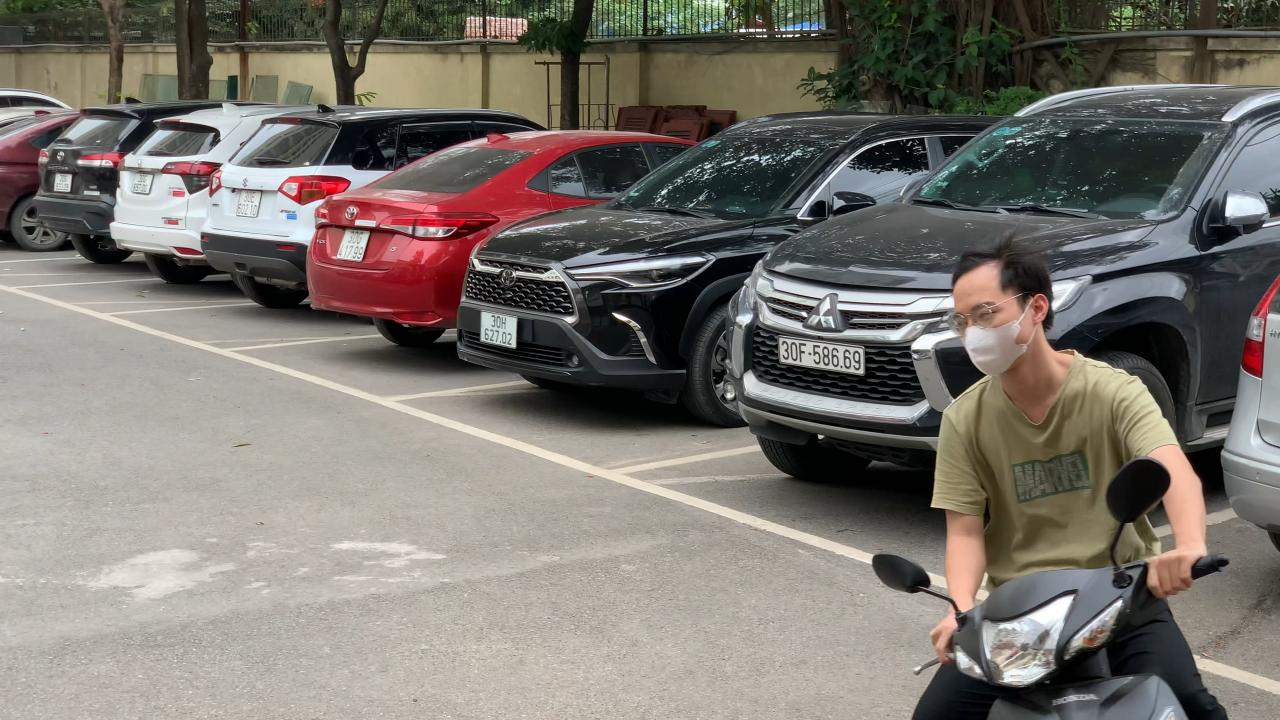motorcyclist: (868, 236, 1231, 720)
